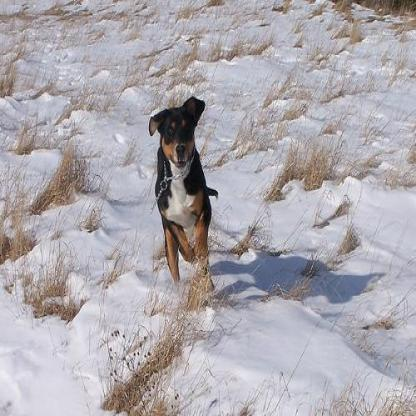Greater_Swiss_Mountain_dog: (146, 91, 218, 301)
